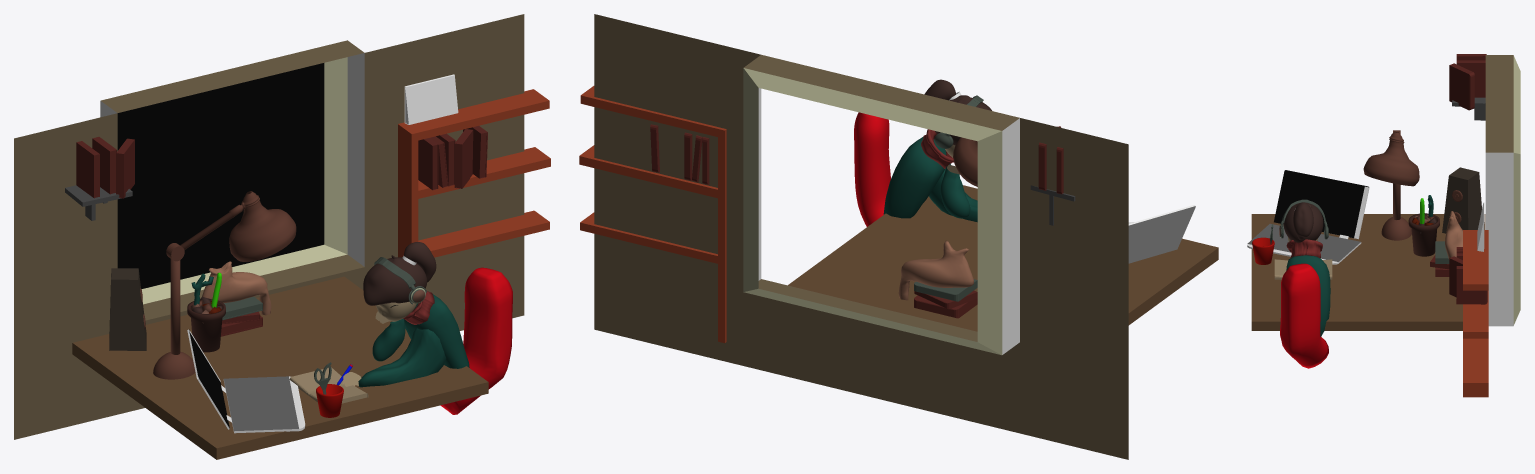
Rendered from girl.glb.
3 renders of one model, left to right at view 1: azimuth 30°, elevation 25°; view 2: azimuth 150°, elevation 25°; view 3: azimuth 270°, elevation 25°, orthographic. The views are drawn at different scales.
Visible parts, largest first — view 1: Cube.005; view 2: Cube.005; view 3: Cube.005.
Boxes of the visible parts, x1,y1,x2,y2 form: Cube.005: [14, 14, 550, 459]; Cube.005: [579, 14, 1218, 459]; Cube.005: [1247, 54, 1520, 397].
Size of the model in its own units: 2447 by 1348 by 1368.
